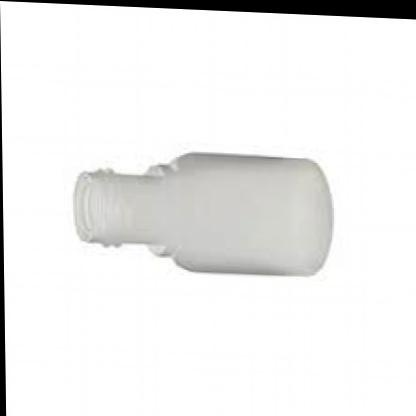trash: (74, 153, 332, 274)
